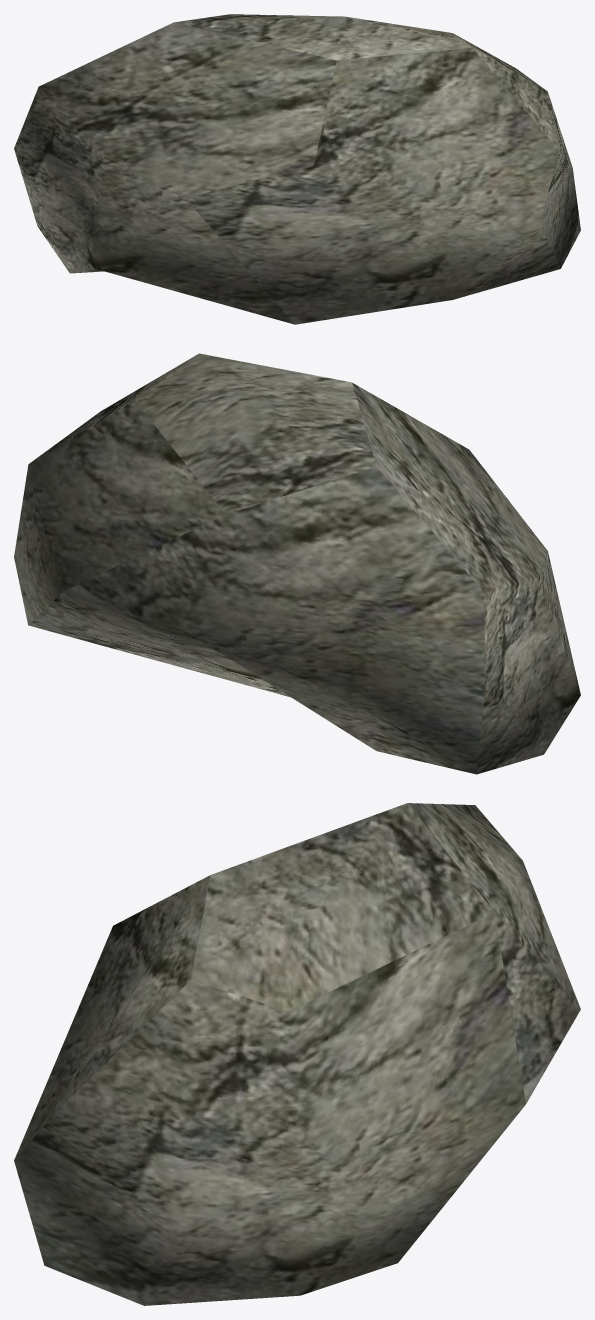
File: MIN_MOB_STONE_V3_20.glb
The picture shows the model from 3 angles, top to bottom: view 1: azimuth 30°, elevation 25°; view 2: azimuth 150°, elevation 25°; view 3: azimuth 270°, elevation 25°; orthographic projection. The views are drawn at different scales.
Parts seen in each view (by area): view 1: Mesh; view 2: Mesh; view 3: Mesh.
Part boxes in pixels (x1,y1,x2,y2): Mesh: (14, 14, 580, 324); Mesh: (14, 353, 580, 774); Mesh: (14, 803, 580, 1305).
Size of the model in its own units: 2.24 by 1.11 by 1.82.
Materials: 1 (1 with a texture image).
